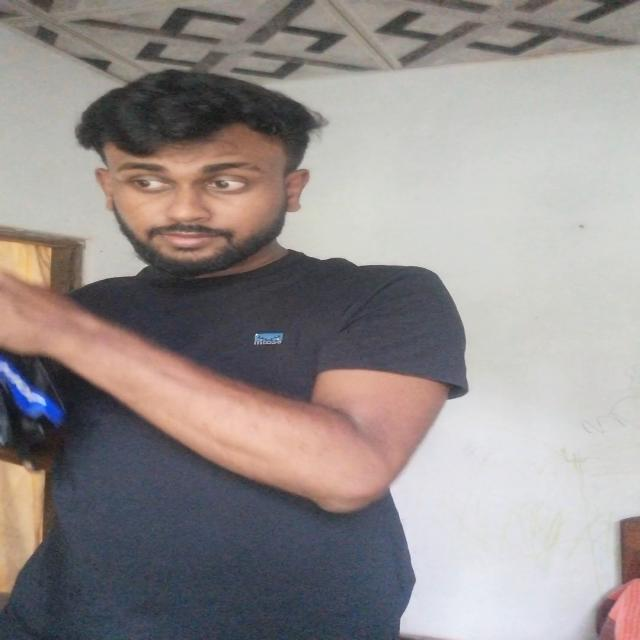Person: (7, 73, 449, 640)
